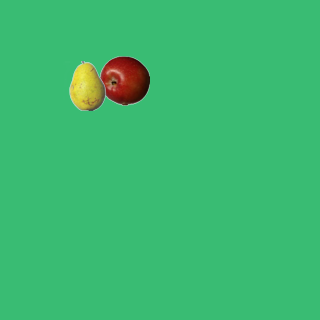Apple Braeburn: (99, 55, 149, 105)
Pear Monster: (62, 60, 112, 110)
